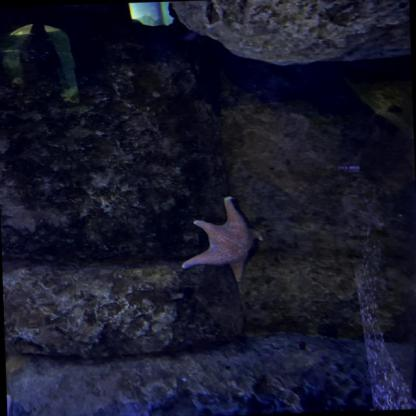starfish: (178, 195, 265, 283)
